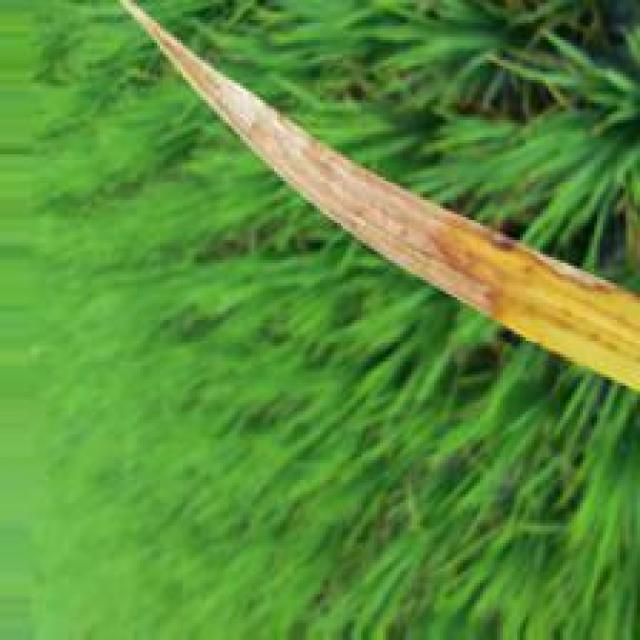Leaf_Scald: (174, 44, 629, 319)
